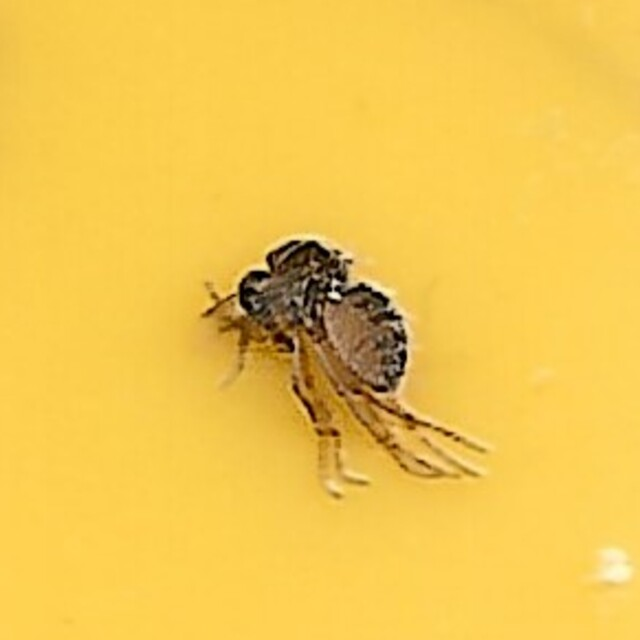Brachycera: (220, 234, 420, 406)
